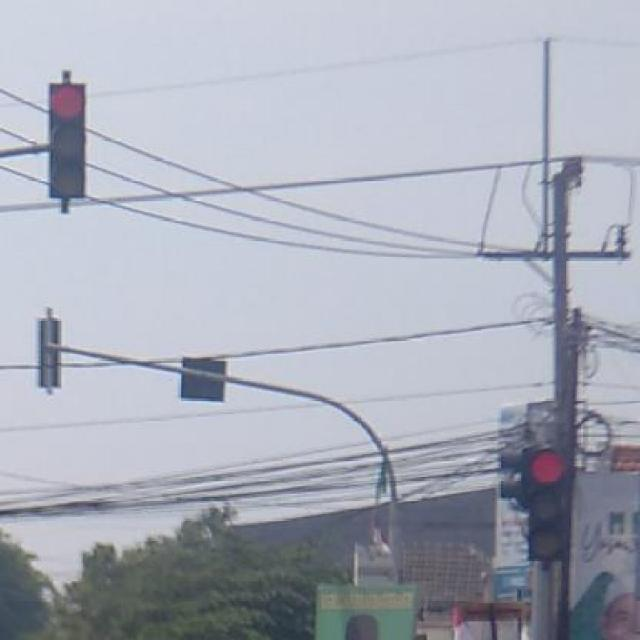traffic light: (527, 451, 569, 568), (50, 86, 85, 205)
